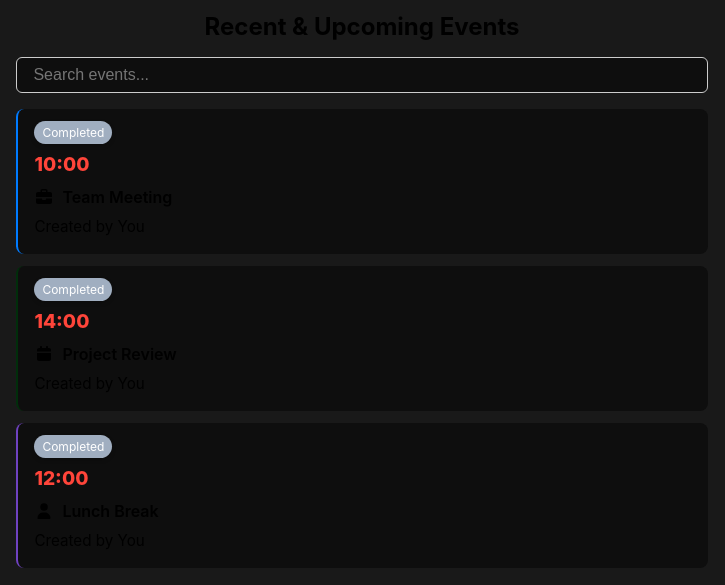
Scenario: ListView › should perform case-insensitive search
The image size is (725, 585).
# Search with different case
Type "TEAM" into the field with placeholder "Search events..." at (362, 75), box [16, 57, 708, 93]
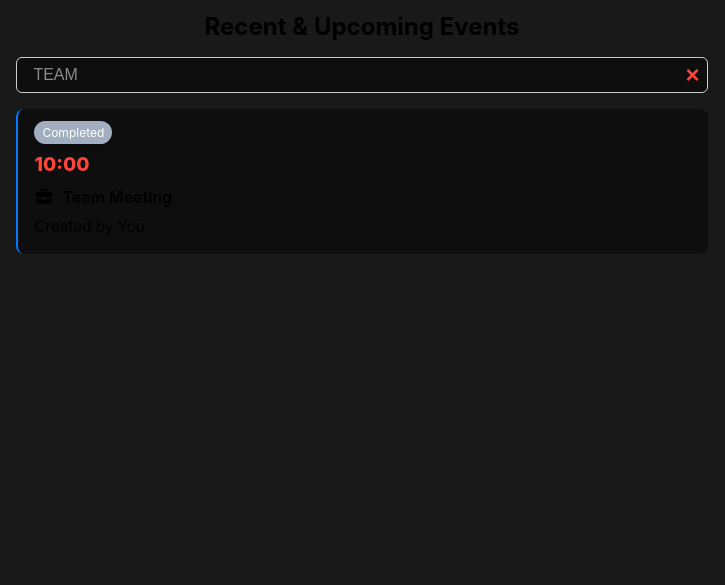
Check: the heading "Project Review" is gone
